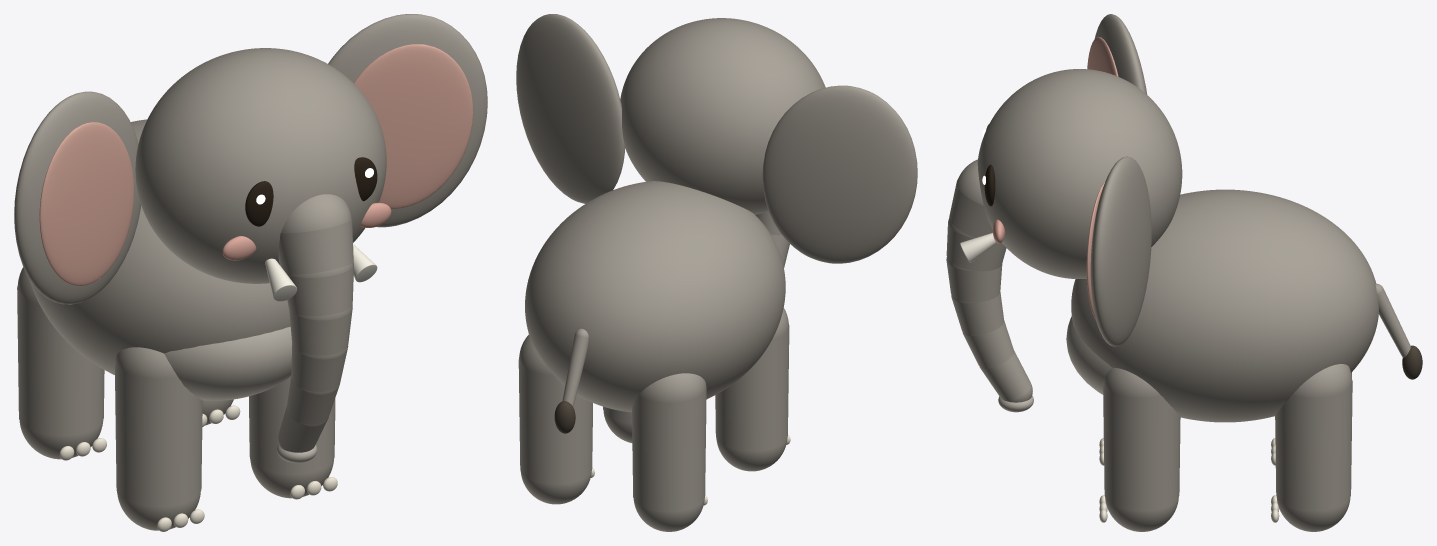
The model's file is elephant.glb.
3 renders of one model, left to right at view 1: azimuth 30°, elevation 25°; view 2: azimuth 150°, elevation 25°; view 3: azimuth 270°, elevation 25°, orthographic. The views are drawn at different scales.
Parts seen in each view (by area): view 1: head_mesh, body_mesh, ear_R_mesh, ear_L_mesh, leg_FR_mesh, leg_BR_mesh, leg_FL_mesh, trunk_1_mesh, trunk_2_mesh, trunk_3_mesh, trunk_4_mesh, trunk_6_mesh (+4 smaller); view 2: body_mesh, head_mesh, ear_R_mesh, ear_L_mesh, leg_BR_mesh, leg_BL_mesh, leg_FR_mesh, tail_mesh, leg_FL_mesh; view 3: body_mesh, head_mesh, leg_BL_mesh, leg_FL_mesh, ear_L_mesh, ear_R_mesh, trunk_1_mesh, trunk_6_mesh, trunk_3_mesh, trunk_4_mesh, tail_mesh, trunk_5_mesh (+1 smaller).
Part boxes in pixels (left/top/right/bottom): head_mesh: left=135, top=48, right=391, bottom=301; body_mesh: left=30, top=119, right=291, bottom=400; ear_R_mesh: left=14, top=91, right=141, bottom=304; ear_L_mesh: left=328, top=14, right=487, bottom=227; leg_FR_mesh: left=114, top=347, right=204, bottom=531; leg_BR_mesh: left=17, top=267, right=106, bottom=460; leg_FL_mesh: left=249, top=376, right=337, bottom=499; trunk_1_mesh: left=278, top=194, right=353, bottom=277; trunk_2_mesh: left=287, top=263, right=353, bottom=320; trunk_3_mesh: left=289, top=305, right=352, bottom=359; trunk_4_mesh: left=291, top=344, right=348, bottom=394; trunk_6_mesh: left=277, top=406, right=328, bottom=463; body_mesh: left=525, top=181, right=785, bottom=412; head_mesh: left=620, top=18, right=825, bottom=214; ear_R_mesh: left=762, top=85, right=917, bottom=263; ear_L_mesh: left=516, top=14, right=624, bottom=203; leg_BR_mesh: left=632, top=373, right=707, bottom=531; leg_BL_mesh: left=518, top=334, right=594, bottom=504; leg_FR_mesh: left=715, top=308, right=790, bottom=471; tail_mesh: left=554, top=328, right=588, bottom=433; leg_FL_mesh: left=603, top=406, right=632, bottom=442; body_mesh: left=1066, top=189, right=1378, bottom=422; head_mesh: left=960, top=69, right=1182, bottom=278; leg_BL_mesh: left=1271, top=364, right=1352, bottom=531; leg_FL_mesh: left=1099, top=367, right=1180, bottom=531; ear_L_mesh: left=1086, top=156, right=1151, bottom=346; ear_R_mesh: left=1087, top=14, right=1147, bottom=94; trunk_1_mesh: left=948, top=159, right=992, bottom=238; trunk_6_mesh: left=979, top=350, right=1033, bottom=412; trunk_3_mesh: left=946, top=259, right=1002, bottom=303; trunk_4_mesh: left=951, top=292, right=1004, bottom=336; tail_mesh: left=1375, top=283, right=1422, bottom=379; trunk_5_mesh: left=962, top=321, right=1014, bottom=369.
Bounding box in the file's own units: 0.9215 × 0.8913 × 0.9157.
